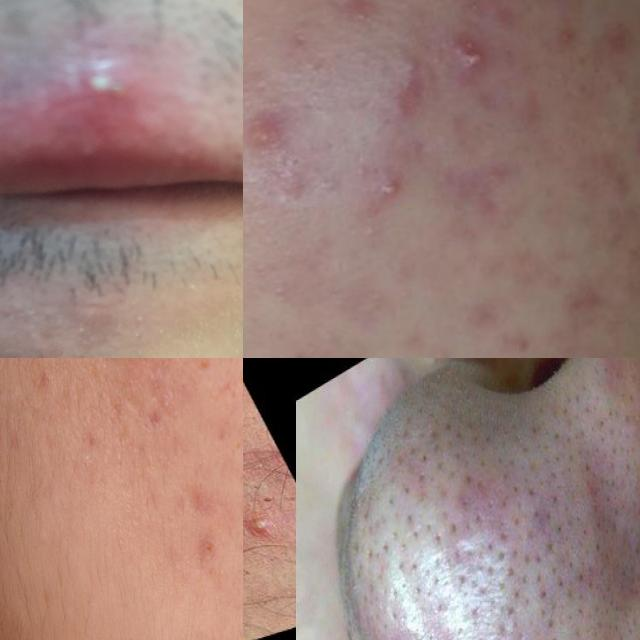comedone: (376, 400, 474, 522), (442, 458, 532, 580), (565, 389, 640, 503), (387, 506, 461, 620), (524, 537, 596, 640), (477, 547, 541, 640), (518, 445, 580, 539), (344, 530, 405, 625), (583, 506, 640, 603), (417, 580, 497, 640), (561, 604, 640, 640), (362, 606, 429, 640), (319, 343, 365, 358)
folliculitis: (243, 508, 282, 540)
papule: (243, 110, 299, 182), (372, 96, 429, 148)
pustule: (455, 26, 508, 110), (356, 172, 422, 223)
